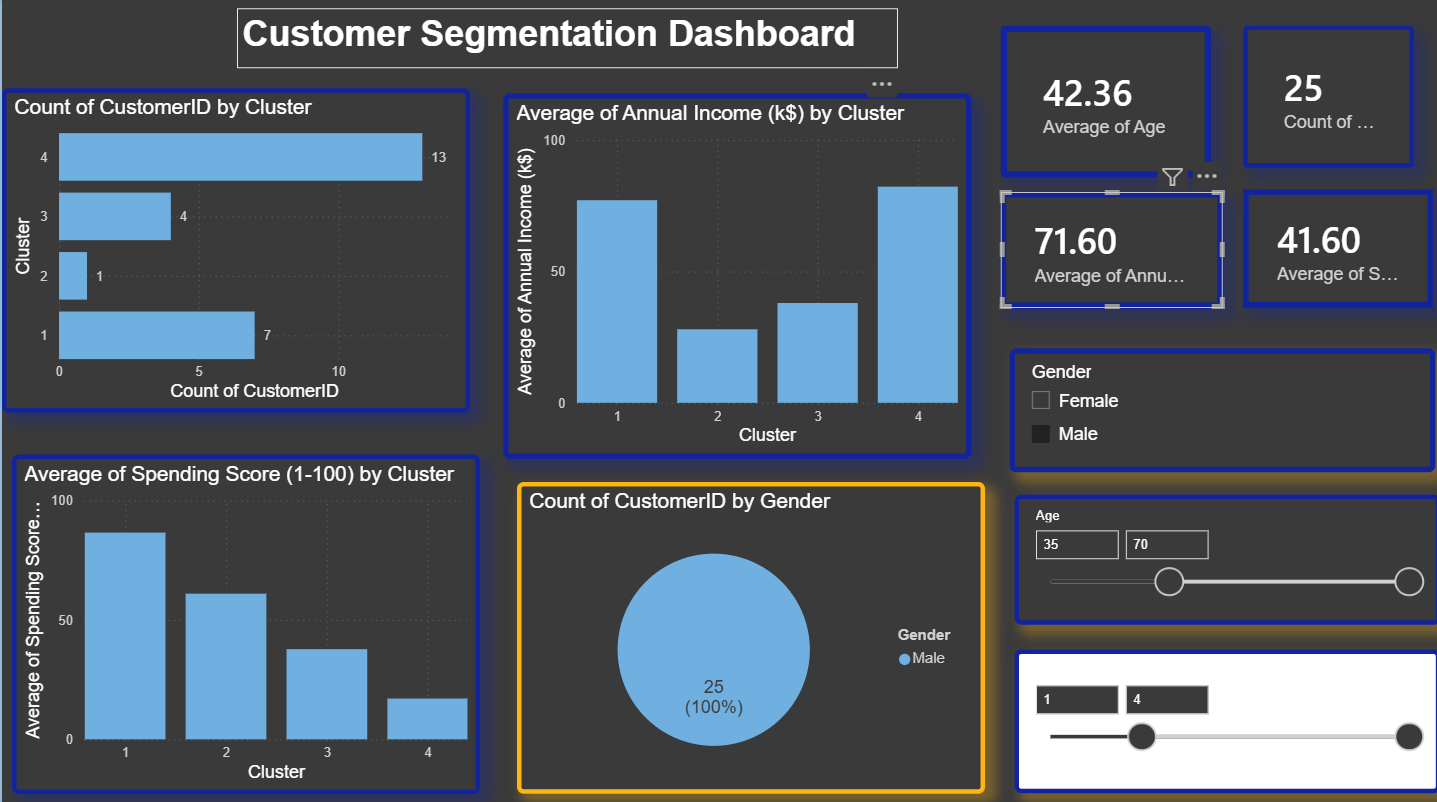

Layout of this report page (visuals, bound fields, positions):
{"tool":"powerbi","page":{"name":"Page 1","canvas":[1280,720],"ordinal":0},"visuals":[{"type":"cardVisual","fields":{"Data":["CountNonNull(Customer_Segments.CustomerID)"]},"box":[1105.7,25.9,152.2,126.2],"z":0},{"type":"cardVisual","fields":{"Data":["Avg(Customer_Segments.Age)"]},"box":[889.3,25.9,187.1,135.3],"z":1000},{"type":"cardVisual","fields":{"Data":["Avg(Customer_Segments.Annual Income (k$))"]},"box":[889.3,173.6,198.4,103.7],"z":2000},{"type":"cardVisual","fields":{"Data":["Avg(Customer_Segments.Spending Score (1-100))"]},"box":[1105.7,171.3,169.1,105.9],"z":3000},{"type":"clusteredBarChart","fields":{"Category":["Customer_Segments.Cluster"],"Y":["CountNonNull(Customer_Segments.CustomerID)"]},"box":[0,80.7,417,288.6],"z":4000},{"type":"pieChart","fields":{"Category":["Customer_Segments.Genre"],"Y":["CountNonNull(Customer_Segments.CustomerID)"]},"box":[458.6,431.7,417,277.6],"z":5000},{"type":"clusteredColumnChart","fields":{"Category":["Customer_Segments.Cluster"],"Y":["Avg(Customer_Segments.Spending Score (1-100))"]},"box":[8.6,407.2,417,302],"z":7000},{"type":"clusteredColumnChart","fields":{"Category":["Customer_Segments.Cluster"],"Y":["Avg(Customer_Segments.Annual Income (k$))"]},"box":[446.3,85.6,417,325.3],"z":8000},{"type":"slicer","fields":{"Values":["Customer_Segments.Cluster"]},"box":[901.2,580.8,379.1,128.4],"z":9000},{"type":"slicer","fields":{"Values":["Customer_Segments.Gender"]},"box":[897.6,313,379.1,110.1],"z":10000},{"type":"slicer","fields":{"Values":["Customer_Segments.Age"]},"box":[901.2,442.7,379.1,116.2],"z":11000},{"type":"textbox","box":[209.1,9.8,589.4,53.8],"z":11001}]}

Visuals, with their boxes in screenshot pixels (x1, y1, x2, y2), scaled from the page's 1280x720 canvas onto the 1437x802 screenshot:
cardVisual - CountNonNull(Customer_Segments.CustomerID): Rect(1241, 29, 1412, 169)
cardVisual - Avg(Customer_Segments.Age): Rect(998, 29, 1208, 180)
cardVisual - Avg(Customer_Segments.Annual Income (k$)): Rect(998, 193, 1221, 309)
cardVisual - Avg(Customer_Segments.Spending Score (1-100)): Rect(1241, 191, 1431, 309)
clusteredBarChart - Customer_Segments.Cluster x CountNonNull(Customer_Segments.CustomerID): Rect(0, 90, 468, 411)
pieChart - Customer_Segments.Genre x CountNonNull(Customer_Segments.CustomerID): Rect(515, 481, 983, 790)
clusteredColumnChart - Customer_Segments.Cluster x Avg(Customer_Segments.Spending Score (1-100)): Rect(10, 454, 478, 790)
clusteredColumnChart - Customer_Segments.Cluster x Avg(Customer_Segments.Annual Income (k$)): Rect(501, 95, 969, 458)
slicer - Customer_Segments.Cluster: Rect(1012, 647, 1436, 790)
slicer - Customer_Segments.Gender: Rect(1008, 349, 1433, 471)
slicer - Customer_Segments.Age: Rect(1012, 493, 1436, 623)
textbox: Rect(235, 11, 896, 71)
